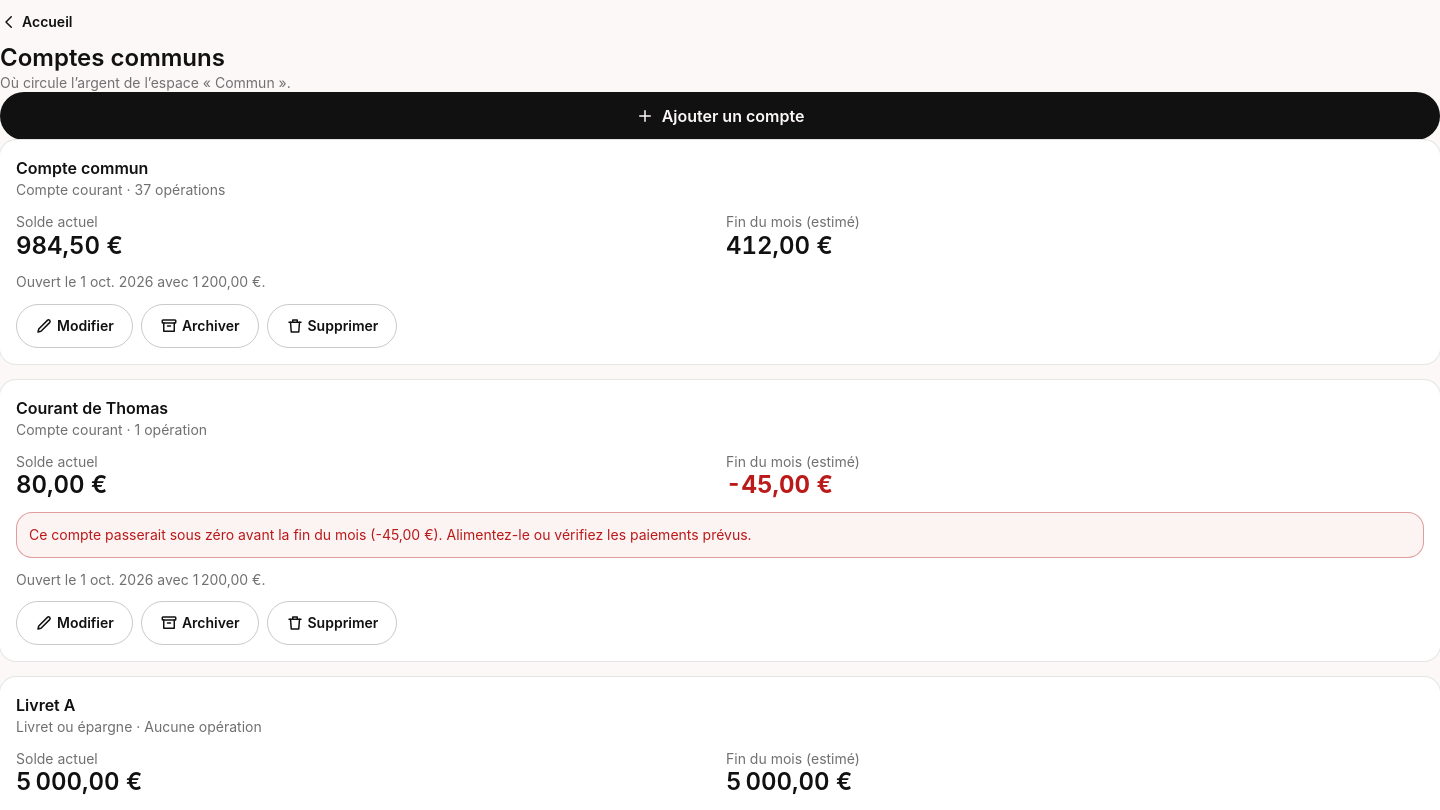
it: ComptesPage › add and edit › refuses a name already used, even in another case
The width and height of the screenshot is (1440, 810).
Click the button "Ajouter un compte": (720, 116) [0,92,1439,140]
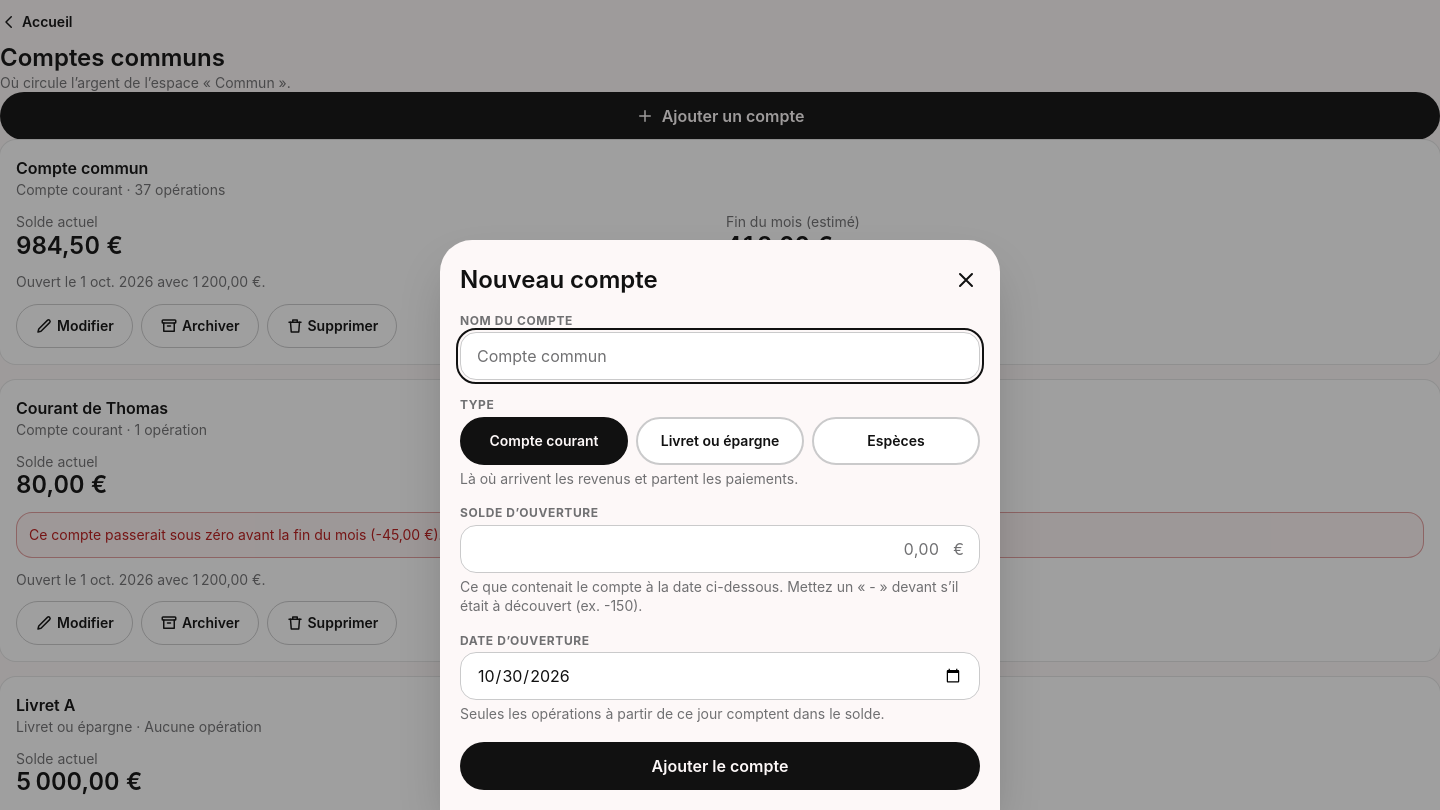
In the field labelled "Nom du compte": (720, 356) [460,332,980,380], type "livret a"
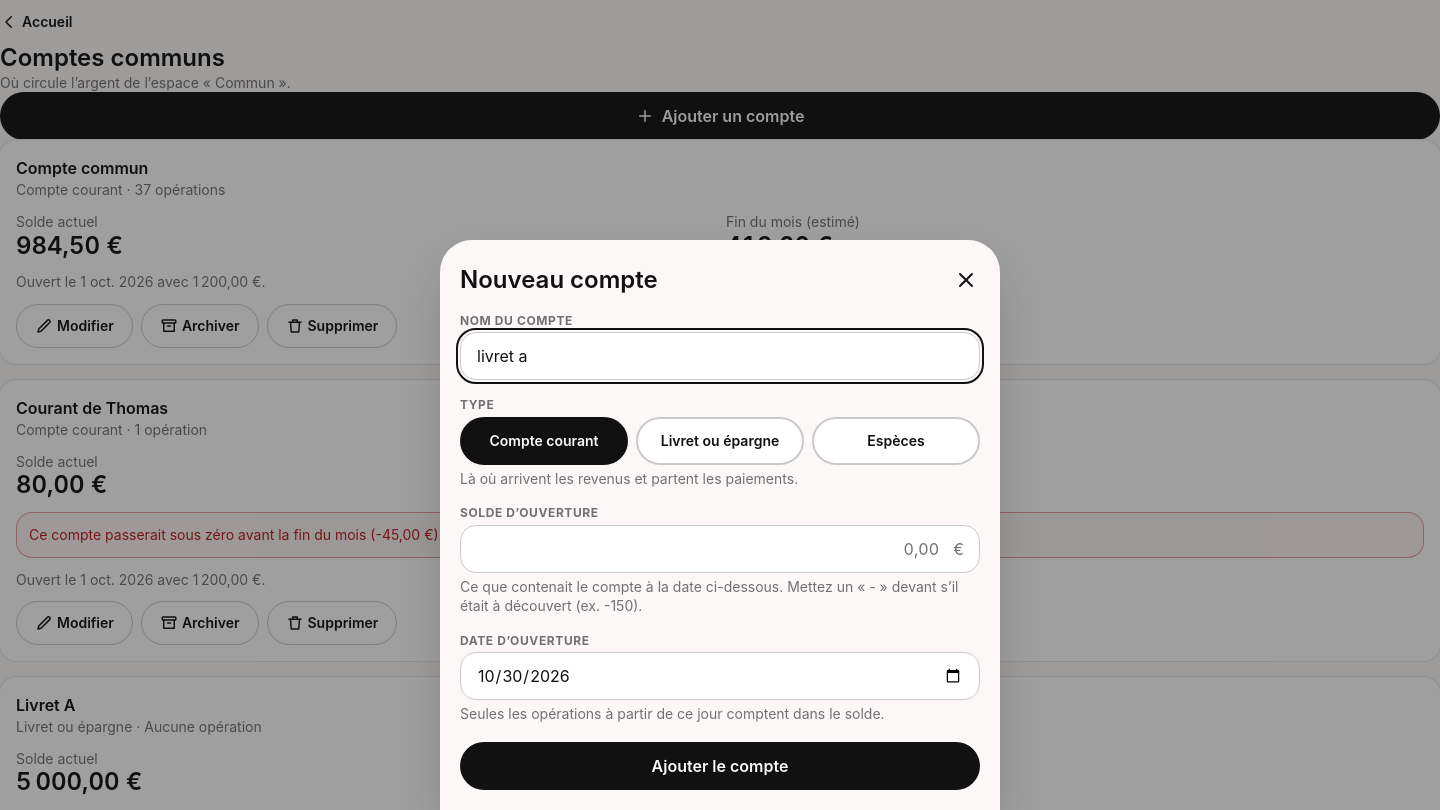
Click the button "Ajouter le compte": (720, 766) [460,742,980,790]
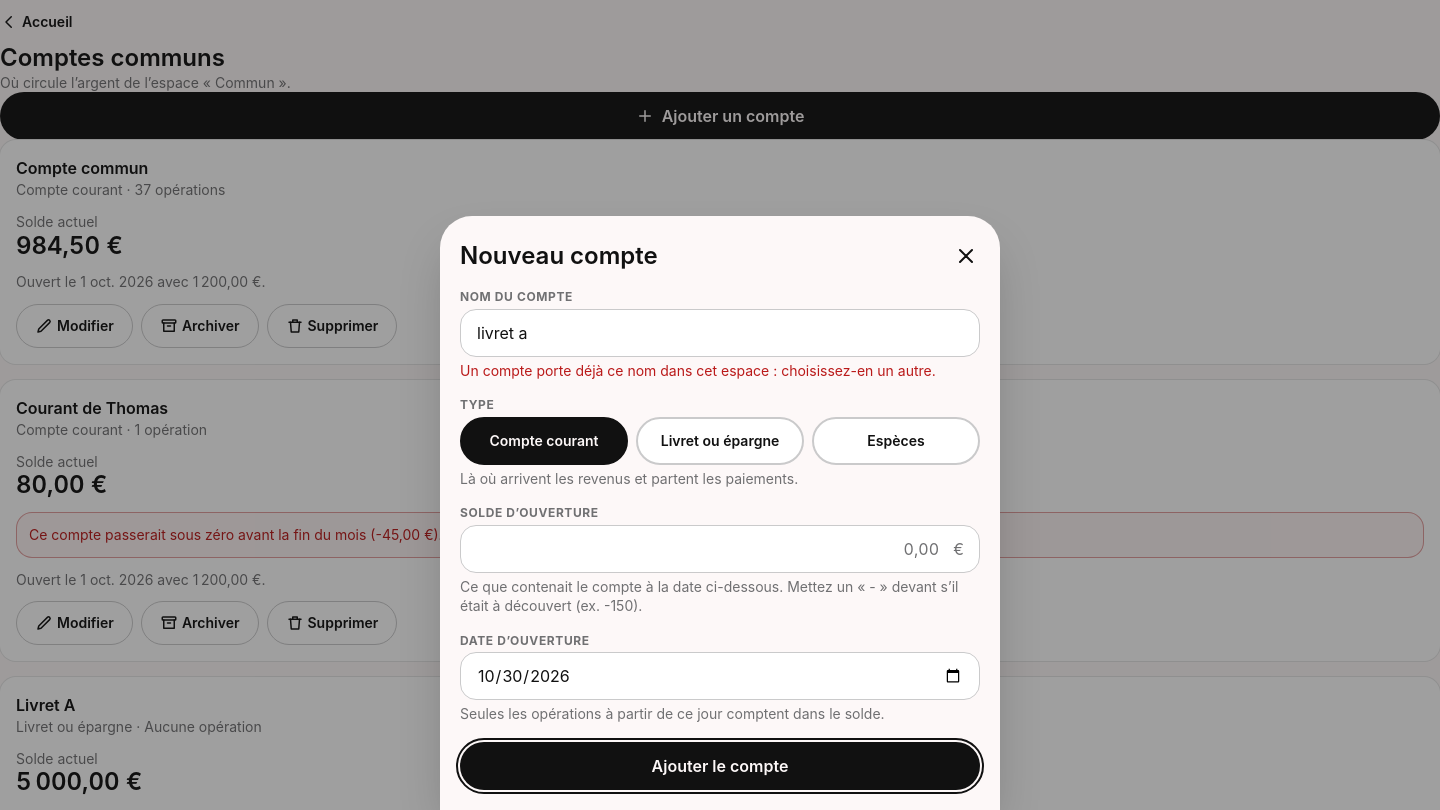
expect the text "Un compte porte déjà ce nom dans cet espace : choisissez-en un autre." is shown: met, box [460,361,980,380]
